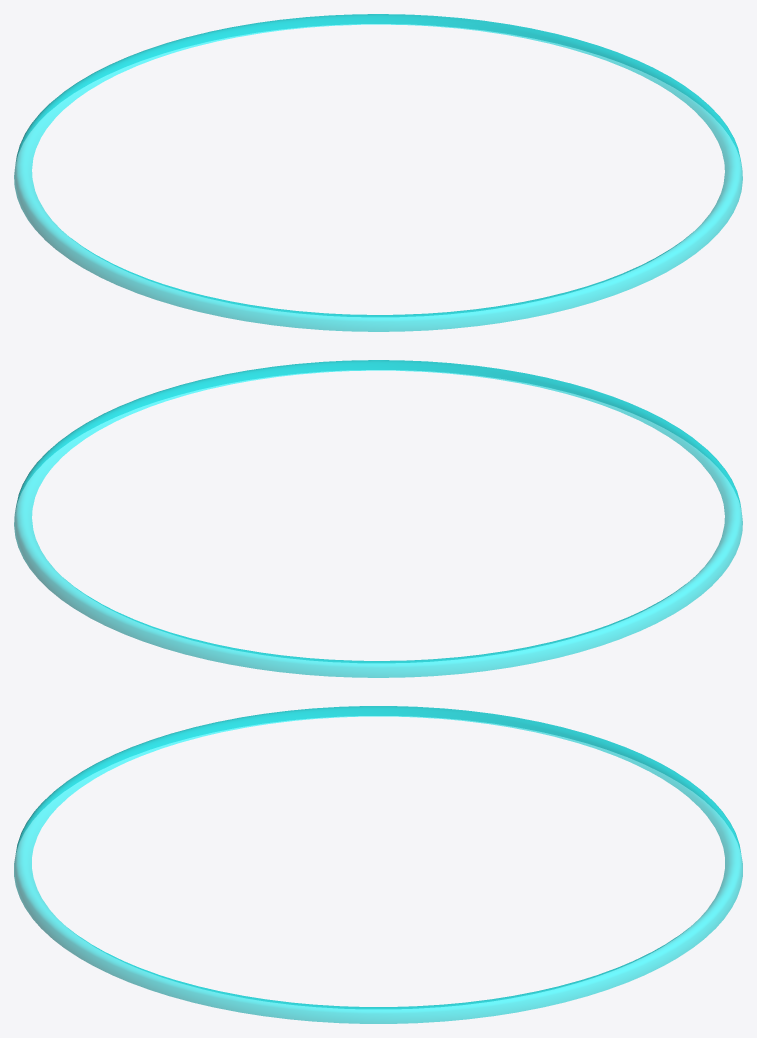
The model's file is Bardur.fbx.
3 views of the same model, one above another, from view 1: azimuth 30°, elevation 25°; view 2: azimuth 150°, elevation 25°; view 3: azimuth 270°, elevation 25° (orthographic).
Visible parts, largest first — view 1: Building.004; view 2: Building.004; view 3: Building.004.
Boxes of the visible parts, bbox=[...] form: Building.004: bbox=[14, 14, 742, 331]; Building.004: bbox=[14, 360, 742, 677]; Building.004: bbox=[14, 706, 742, 1023].
Bounding box in the file's own units: 5412 × 105 × 5412.
